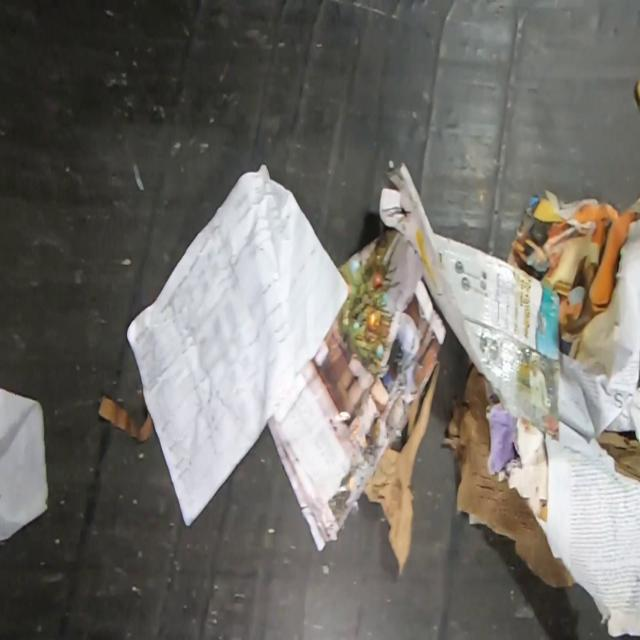cardboard: (376, 163, 560, 441), (441, 356, 578, 589), (596, 430, 640, 484)
